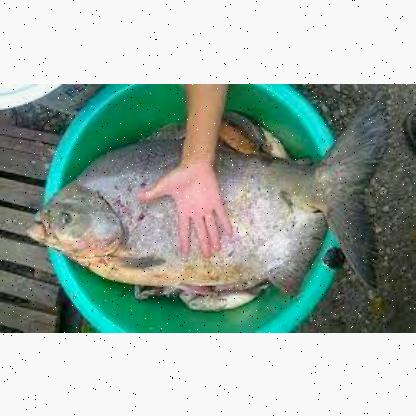ikan-pacu: (27, 130, 381, 289)
